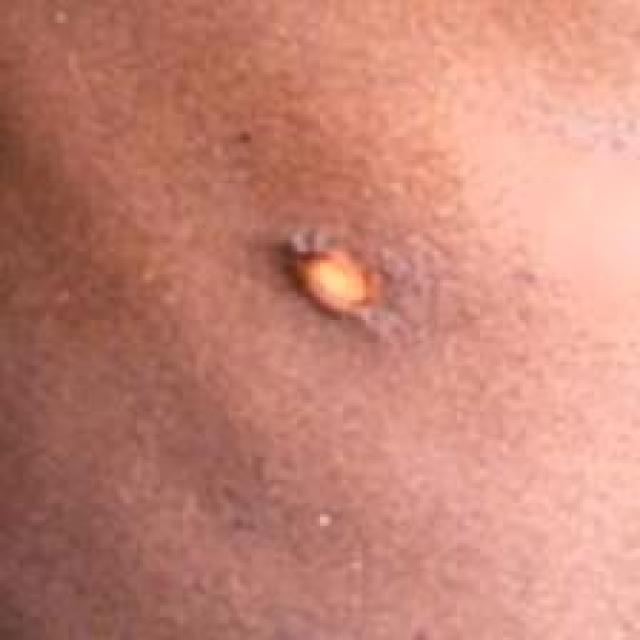monkeypox: (180, 93, 516, 523)
